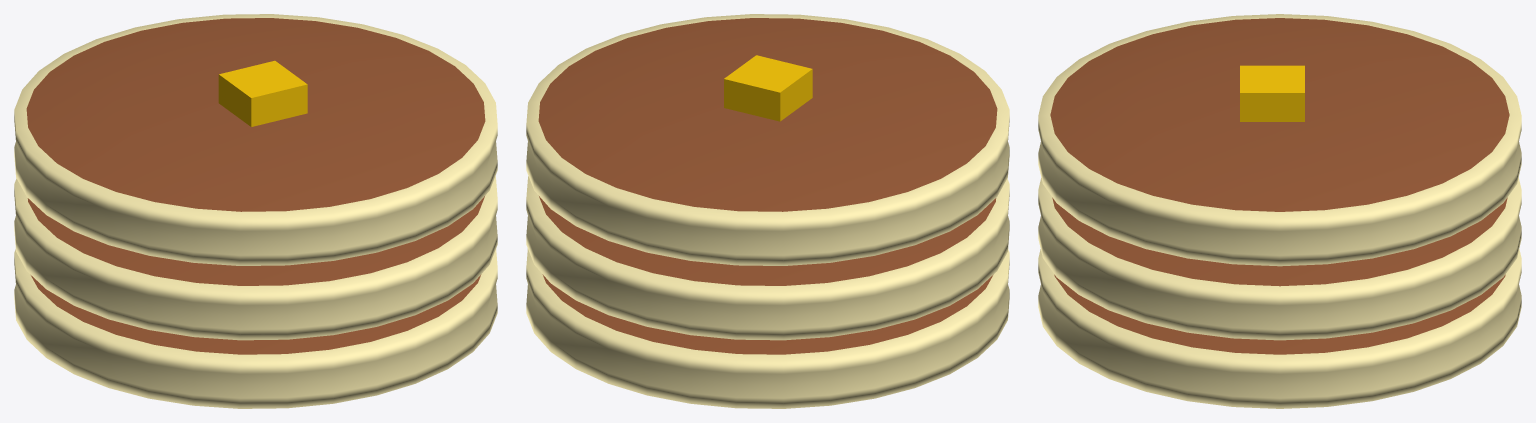
The model's file is Cake.fbx.
3 views of the same model, side by side, from view 1: azimuth 30°, elevation 25°; view 2: azimuth 150°, elevation 25°; view 3: azimuth 270°, elevation 25° (orthographic).
Parts seen in each view (by area): view 1: 円柱.002, 円柱.001, 円柱, 立方体; view 2: 円柱.002, 円柱.001, 円柱, 立方体; view 3: 円柱.002, 円柱.001, 円柱, 立方体.
Boxes of the visible parts, box(x1,y1,x2,y2) form: 円柱.002: box(14, 14, 497, 265); 円柱.001: box(14, 176, 497, 340); 円柱: box(14, 248, 497, 408); 立方体: box(218, 60, 307, 126); 円柱.002: box(526, 14, 1009, 265); 円柱.001: box(526, 176, 1009, 340); 円柱: box(526, 248, 1009, 408); 立方体: box(724, 55, 812, 121); 円柱.002: box(1038, 14, 1521, 266); 円柱.001: box(1038, 178, 1521, 340); 円柱: box(1038, 249, 1521, 408); 立方体: box(1240, 65, 1304, 121).
Bounding box in the file's own units: 200 × 110 × 200.
